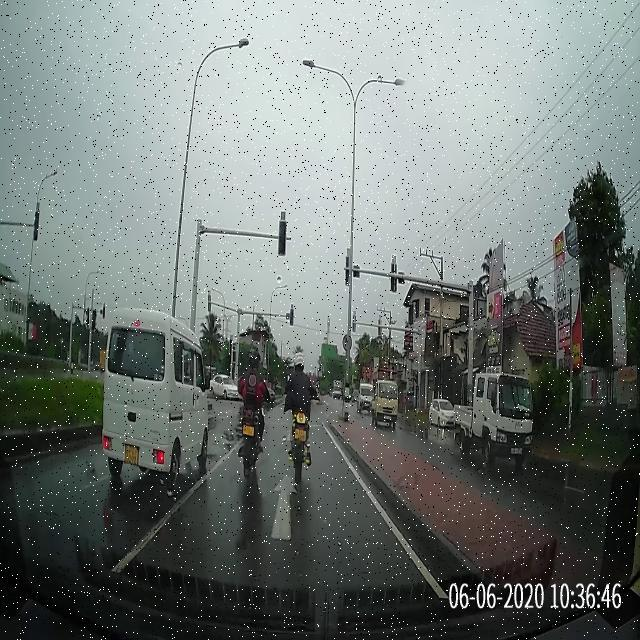forward: (139, 472, 406, 542)
